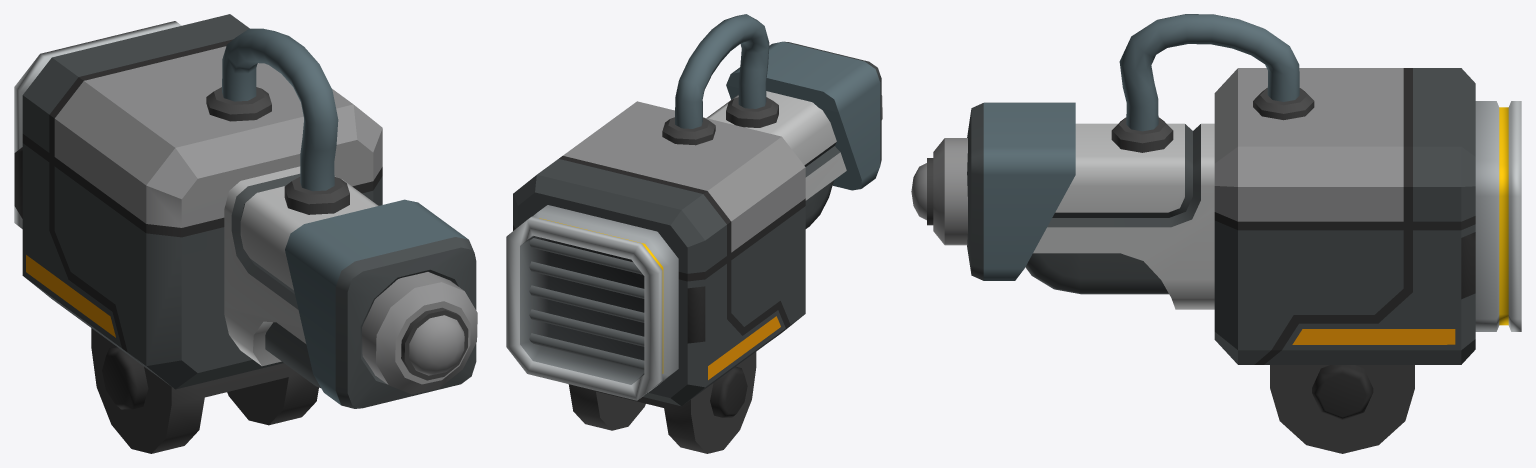
Rendered from Turret_006_Gun_01.fbx.
The picture shows the model from 3 angles, left to right: view 1: azimuth 30°, elevation 25°; view 2: azimuth 150°, elevation 25°; view 3: azimuth 270°, elevation 25°; orthographic projection. The views are drawn at different scales.
Visible parts, largest first — view 1: Turret_006_Gun_01; view 2: Turret_006_Gun_01; view 3: Turret_006_Gun_01.
Part boxes in pixels (x1,y1,x2,y2): Turret_006_Gun_01: (14, 14, 477, 453); Turret_006_Gun_01: (506, 14, 882, 453); Turret_006_Gun_01: (911, 14, 1521, 453).
Size of the model in its own units: 78.51 by 194 by 143.
